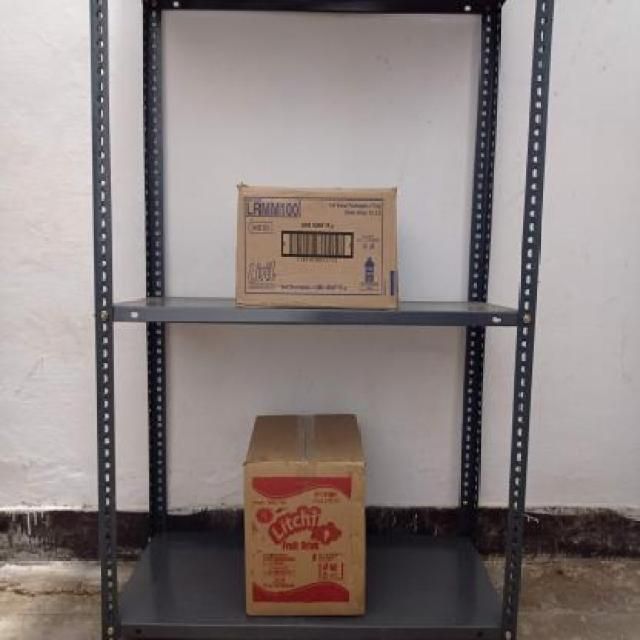box: (235, 183, 398, 311), (242, 462, 366, 620)
